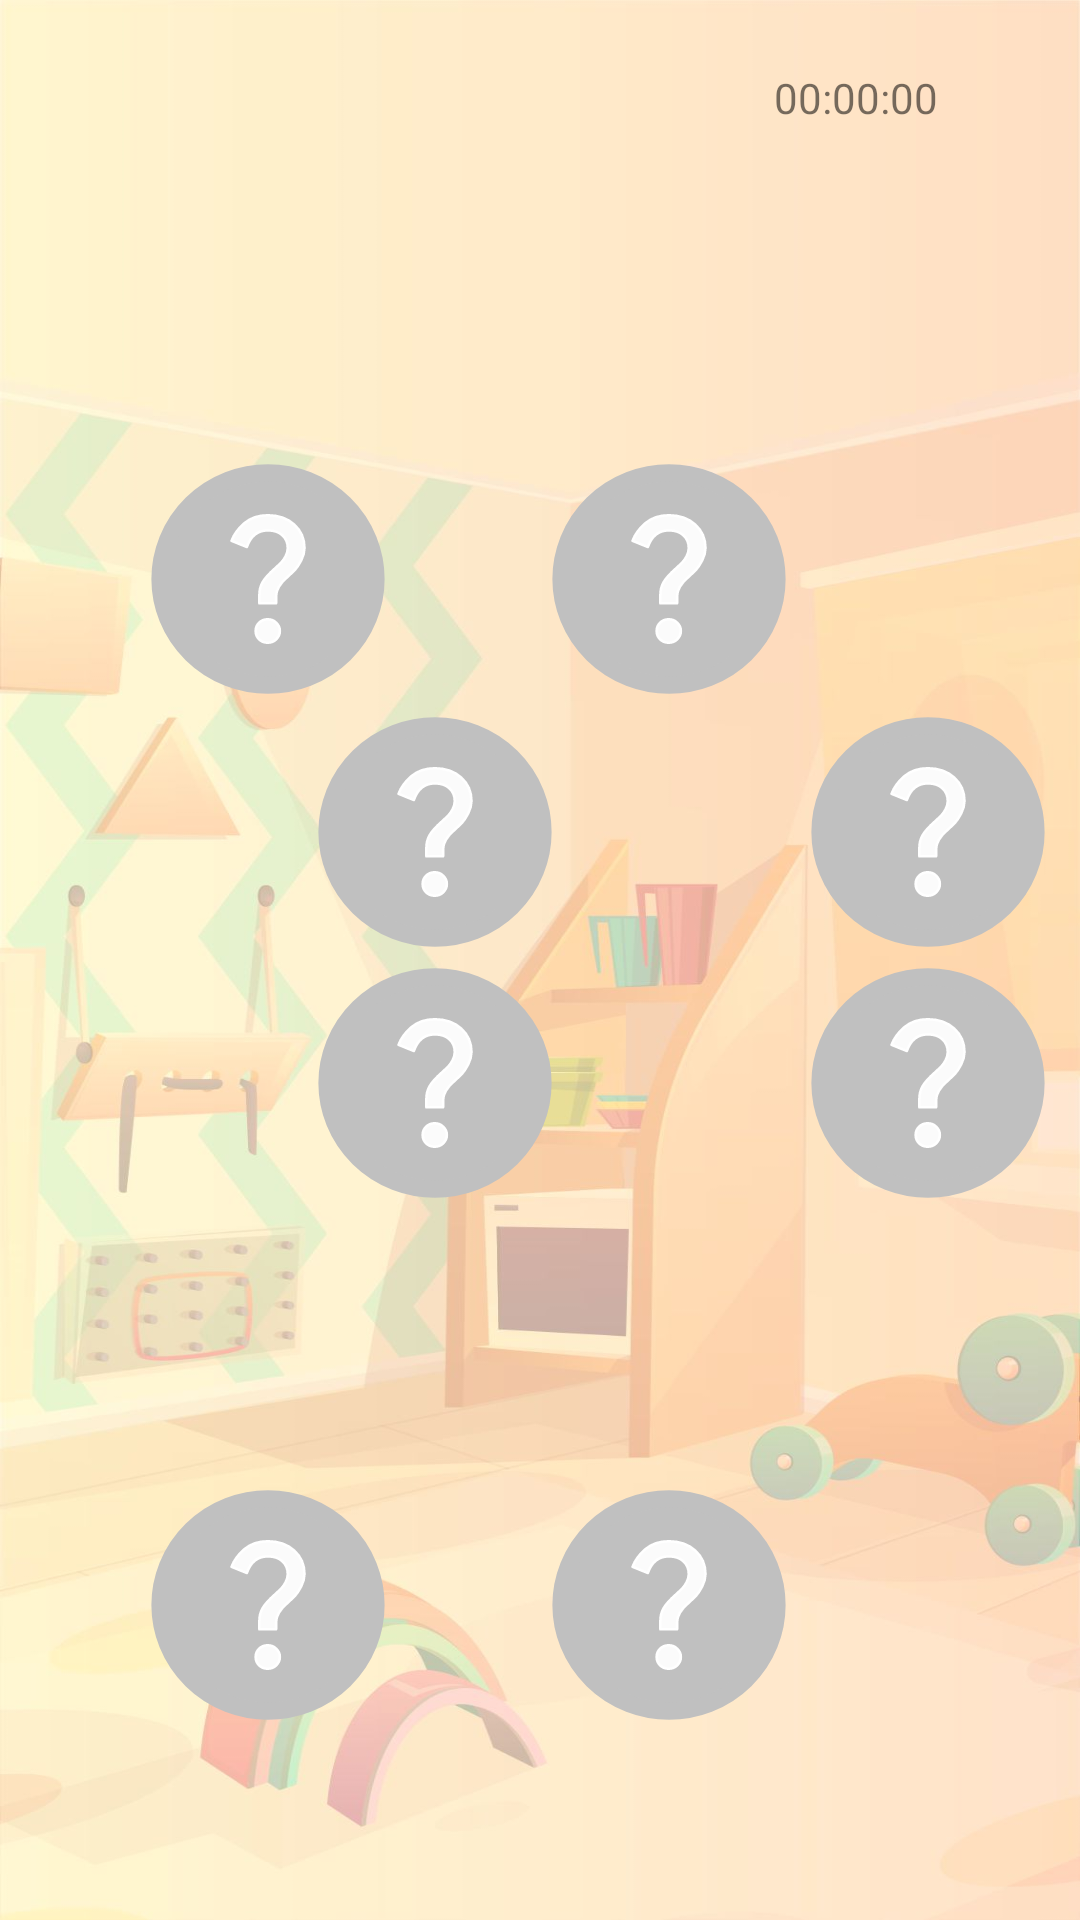

Named icons in this screenshot (1080 x 1920) and their centers, point (x, y):
questionmark: point (678, 572), point (268, 582), point (435, 832), point (919, 832), point (435, 1083), point (937, 1083), point (277, 1615), point (669, 1605)
